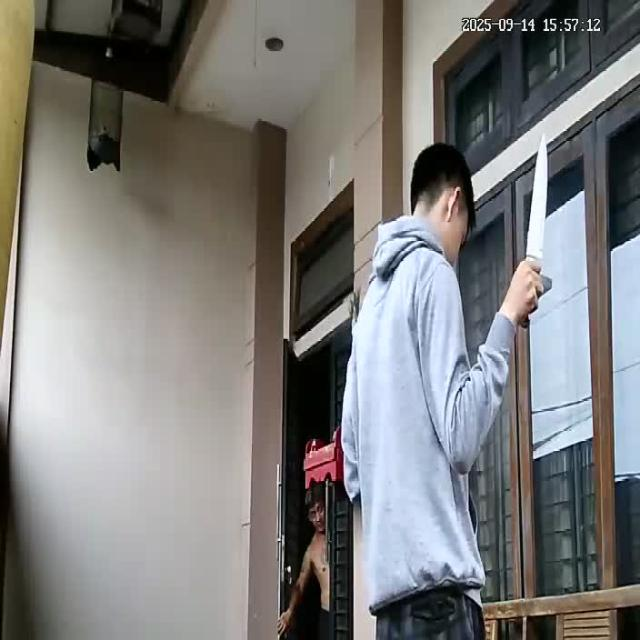senjata_tajam: (525, 133, 548, 262)
